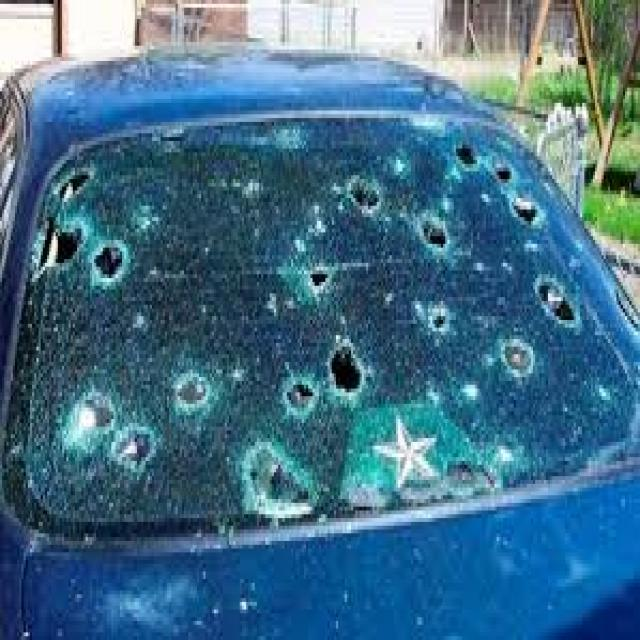minor: (12, 105, 610, 485)
